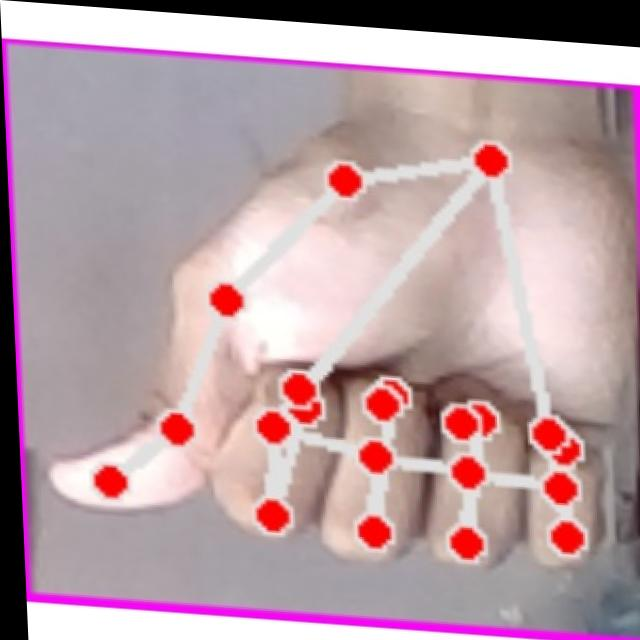A: (23, 90, 634, 588)
